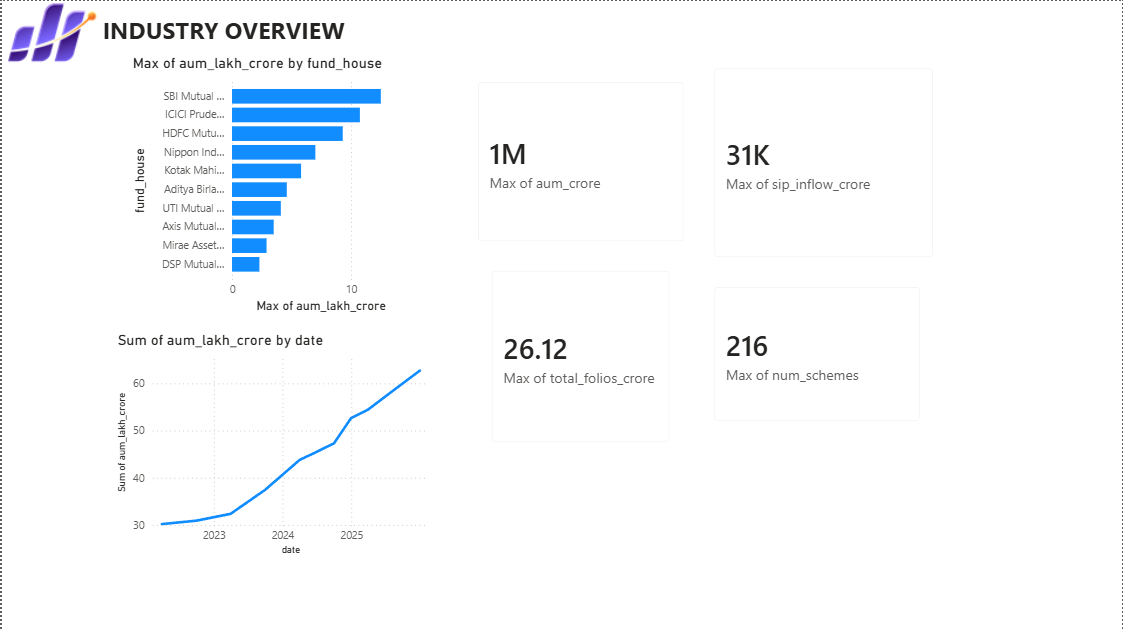

The page's visual inventory and layout, read from the dashboard file:
{"tool":"powerbi","page":{"name":"Industry Overview","canvas":[1280,720],"ordinal":0},"visuals":[{"type":"cardVisual","fields":{"Data":["Max(aum_by_fund_house_clean.aum_crore)"]},"box":[526.7,75.6,269.8,216.3],"z":0},{"type":"cardVisual","fields":{"Data":["Max(monthly_sip_inflows_clean.sip_inflow_crore)"]},"box":[796.5,59.3,284.9,250],"z":1000},{"type":"cardVisual","fields":{"Data":["Max(industry_folio_count_clean.total_folios_crore)"]},"box":[543,291.9,237.2,230.2],"z":2000},{"type":"cardVisual","fields":{"Data":["Max(aum_by_fund_house_clean.num_schemes)"]},"box":[796.5,309.3,269.8,187.2],"z":3000},{"type":"lineChart","fields":{"Category":["aum_by_fund_house_clean.date"],"Y":["Sum(aum_by_fund_house_clean.aum_lakh_crore)"]},"box":[126.7,376.7,368.6,261.6],"z":4000},{"type":"clusteredBarChart","fields":{"Category":["aum_by_fund_house_clean.fund_house"],"Y":["Max(aum_by_fund_house_clean.aum_lakh_crore)"]},"box":[144.2,59.3,334.9,301.2],"z":5000},{"type":"textbox","box":[110.4,10.4,339,49.4],"z":6000},{"type":"image","box":[0,0,110.4,75.3],"z":7000}]}

Visuals, with their boxes in screenshot pixels (x1, y1, x2, y2), scaled from the page's 1280x720 canvas onto the 1123x631 screenshot:
cardVisual - Max(aum_by_fund_house_clean.aum_crore): l=462, t=66, r=699, b=256
cardVisual - Max(monthly_sip_inflows_clean.sip_inflow_crore): l=699, t=52, r=949, b=271
cardVisual - Max(industry_folio_count_clean.total_folios_crore): l=476, t=256, r=685, b=458
cardVisual - Max(aum_by_fund_house_clean.num_schemes): l=699, t=271, r=936, b=435
lineChart - aum_by_fund_house_clean.date x Sum(aum_by_fund_house_clean.aum_lakh_crore): l=111, t=330, r=435, b=559
clusteredBarChart - aum_by_fund_house_clean.fund_house x Max(aum_by_fund_house_clean.aum_lakh_crore): l=127, t=52, r=420, b=316
textbox: l=97, t=9, r=394, b=52
image: l=0, t=0, r=97, b=66
